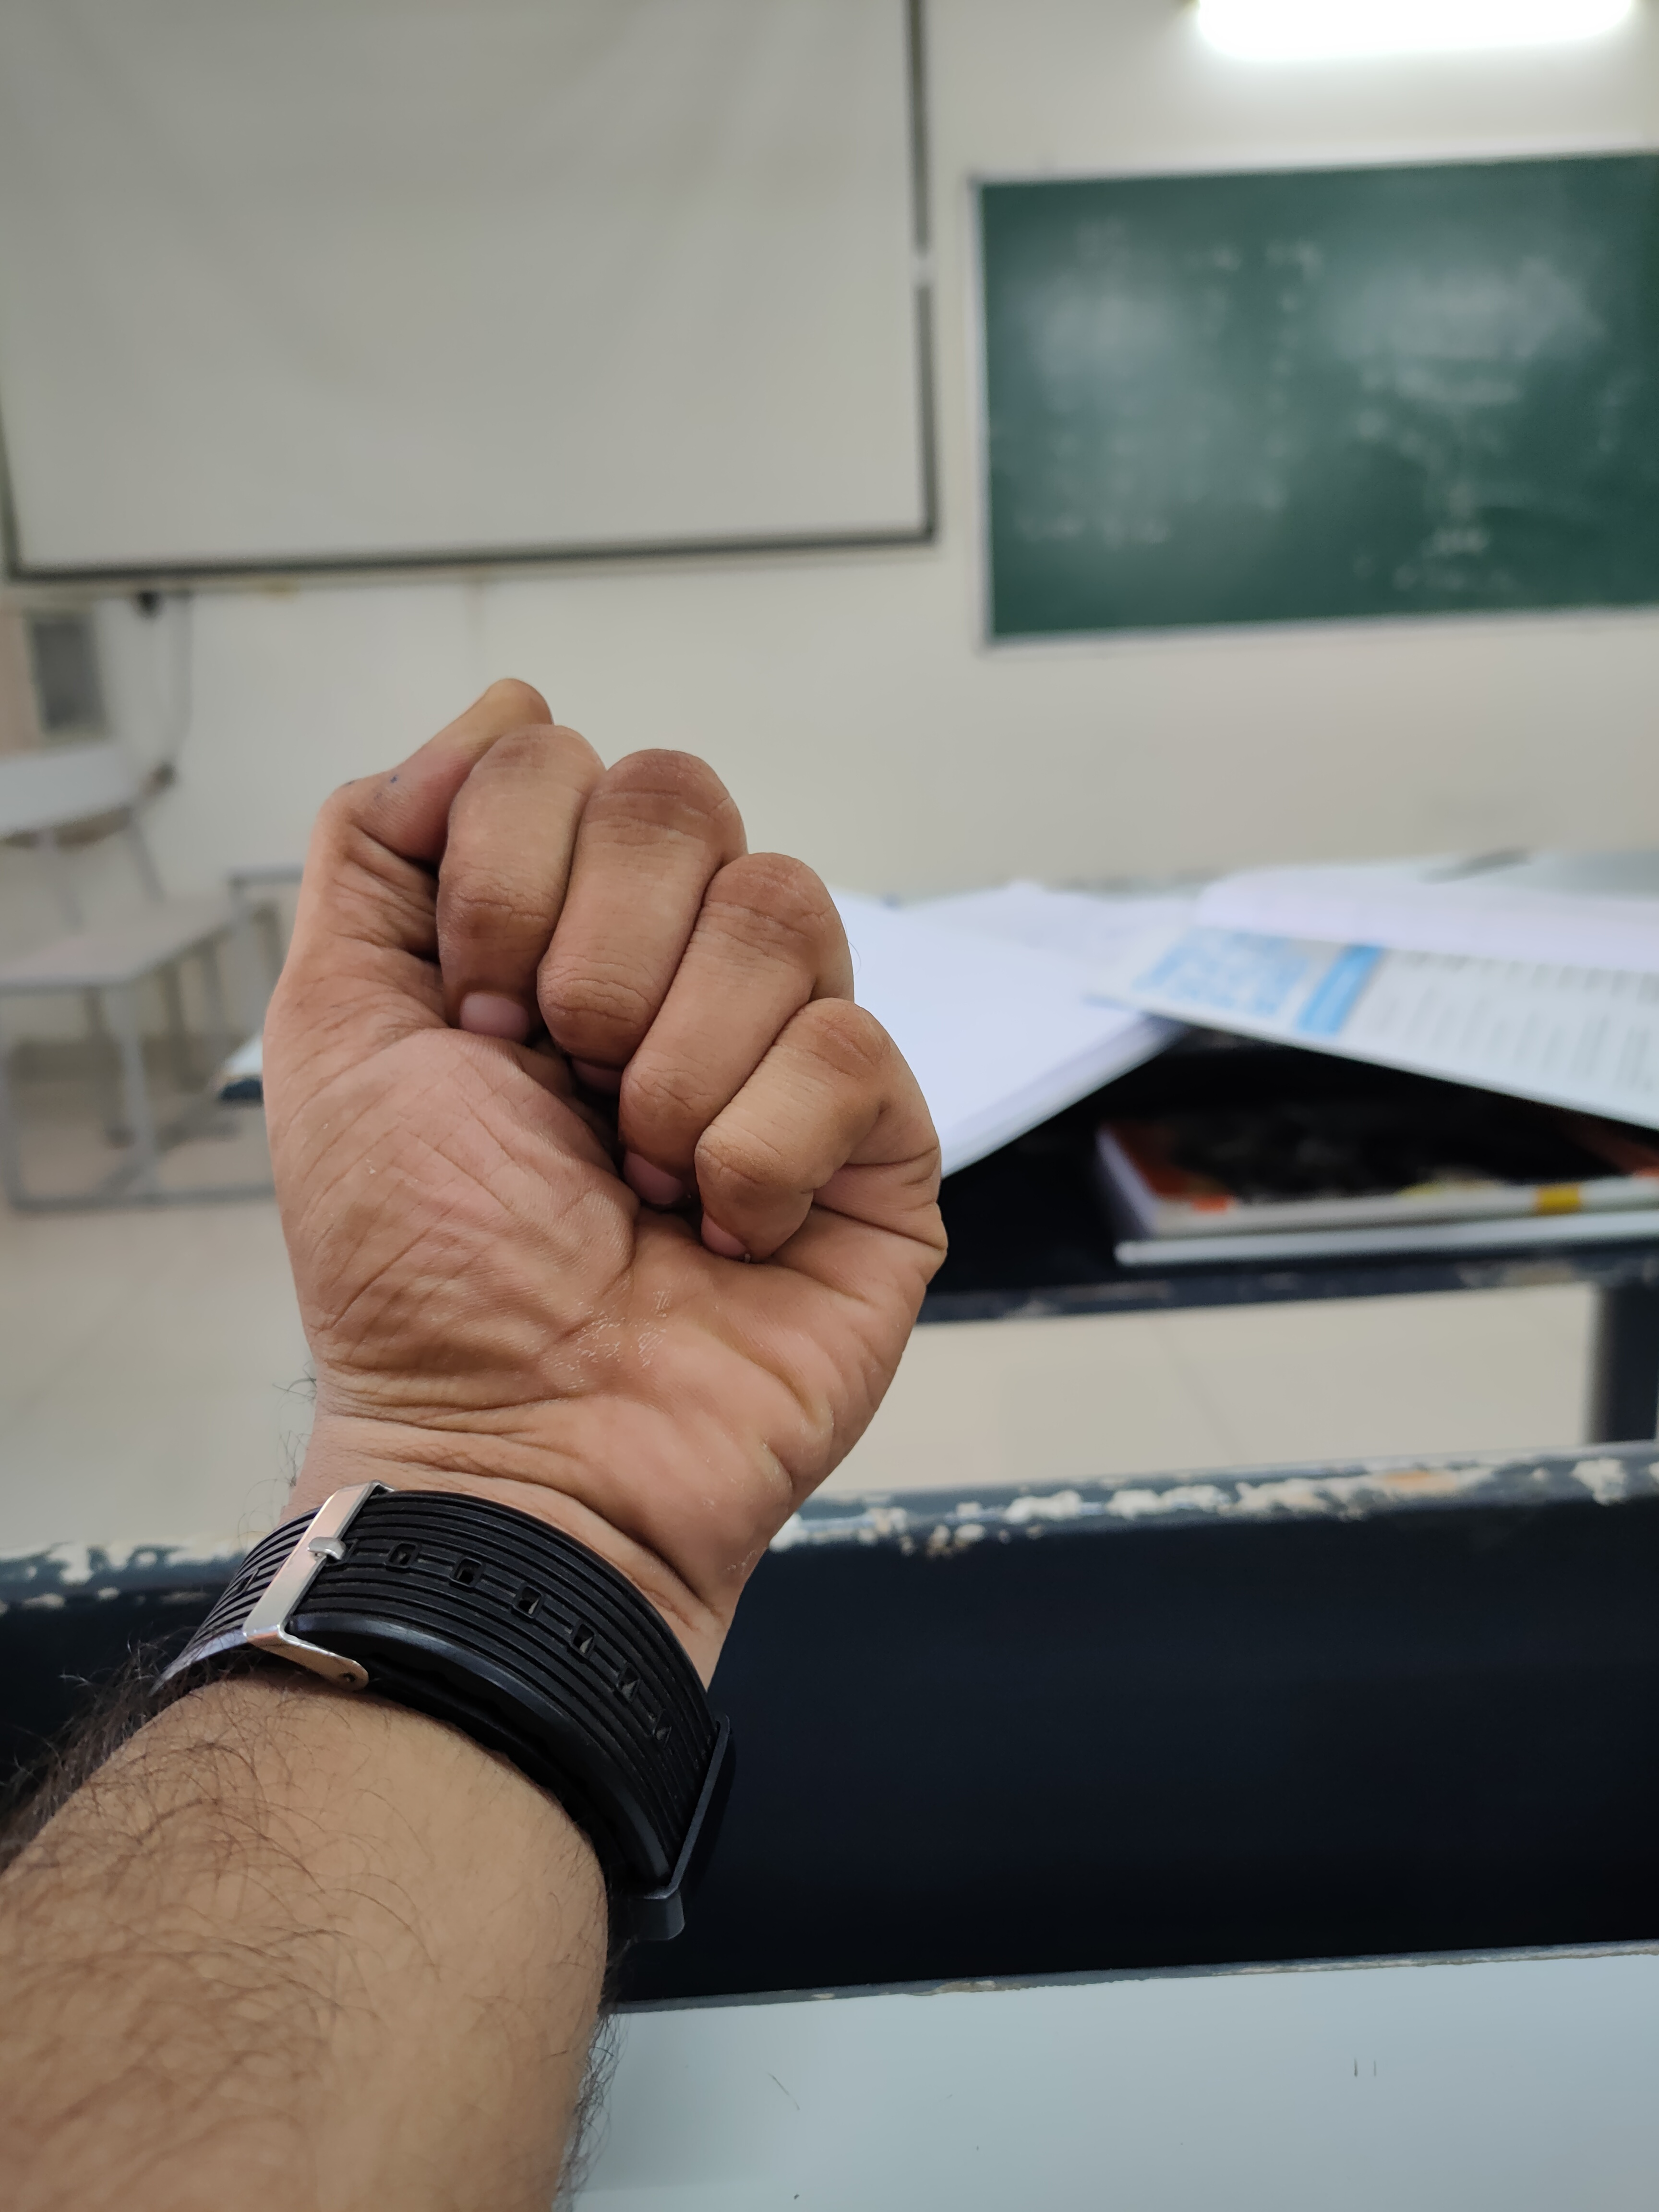A: (134, 617, 986, 1705)
